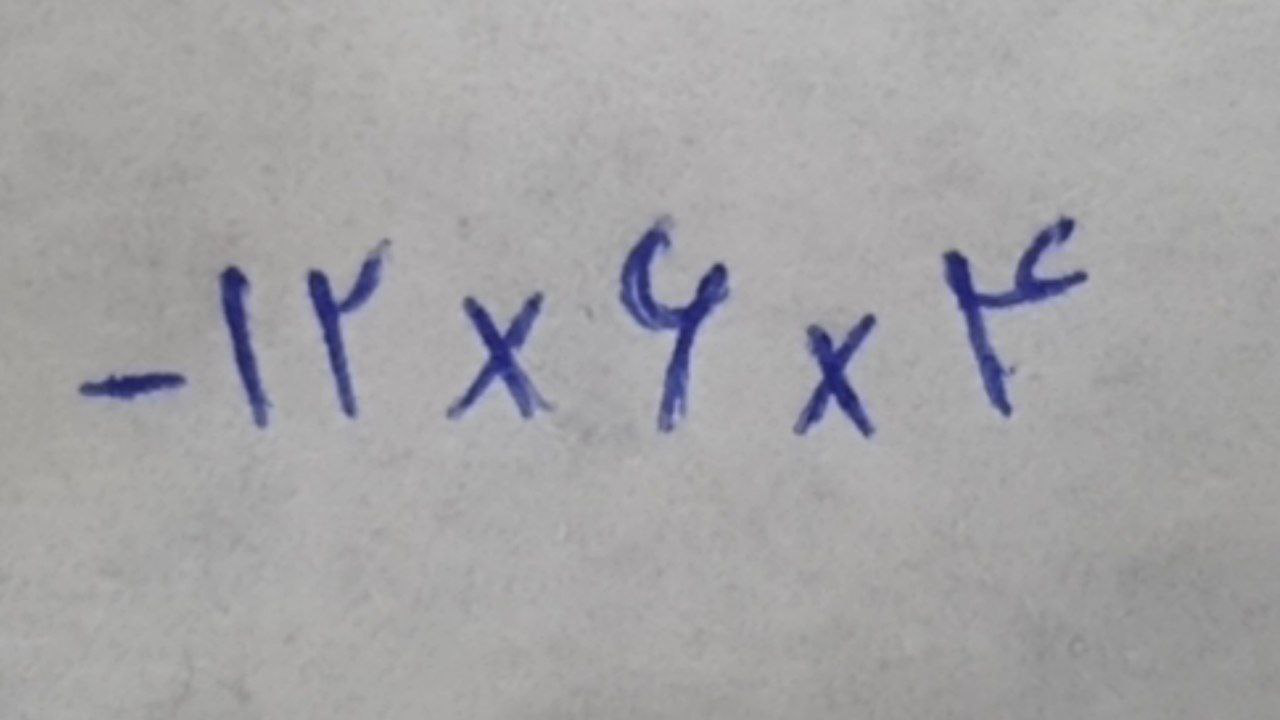character: (942, 216, 1088, 420), (617, 215, 730, 436), (308, 238, 394, 421), (444, 291, 559, 422), (793, 312, 881, 438), (219, 265, 269, 432), (78, 371, 188, 400)
